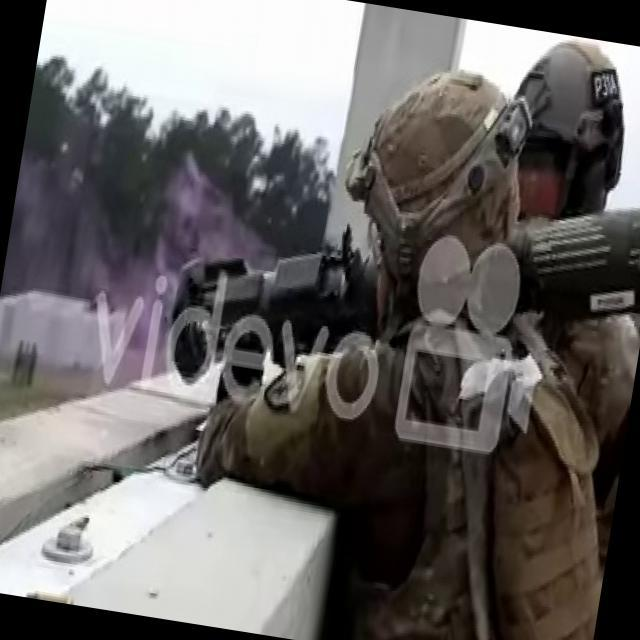rocket: (161, 133, 640, 438)
